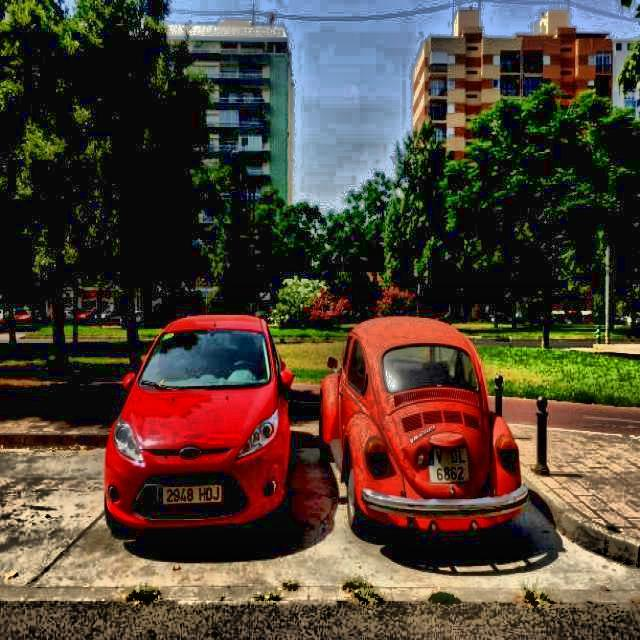carro: (318, 326, 526, 538), (104, 316, 296, 526)
